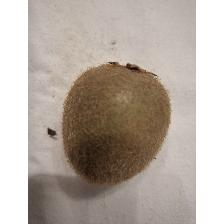Kiwi: (58, 59, 176, 189)
